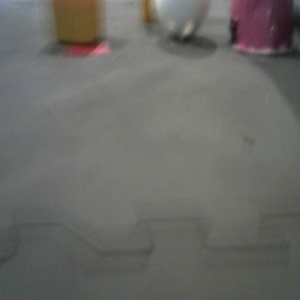right: (230, 1, 296, 55)
